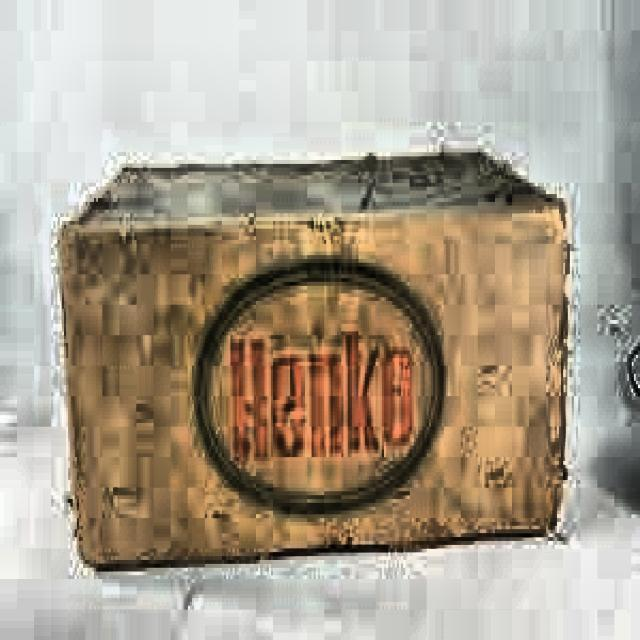cardboard: (53, 144, 572, 572)
